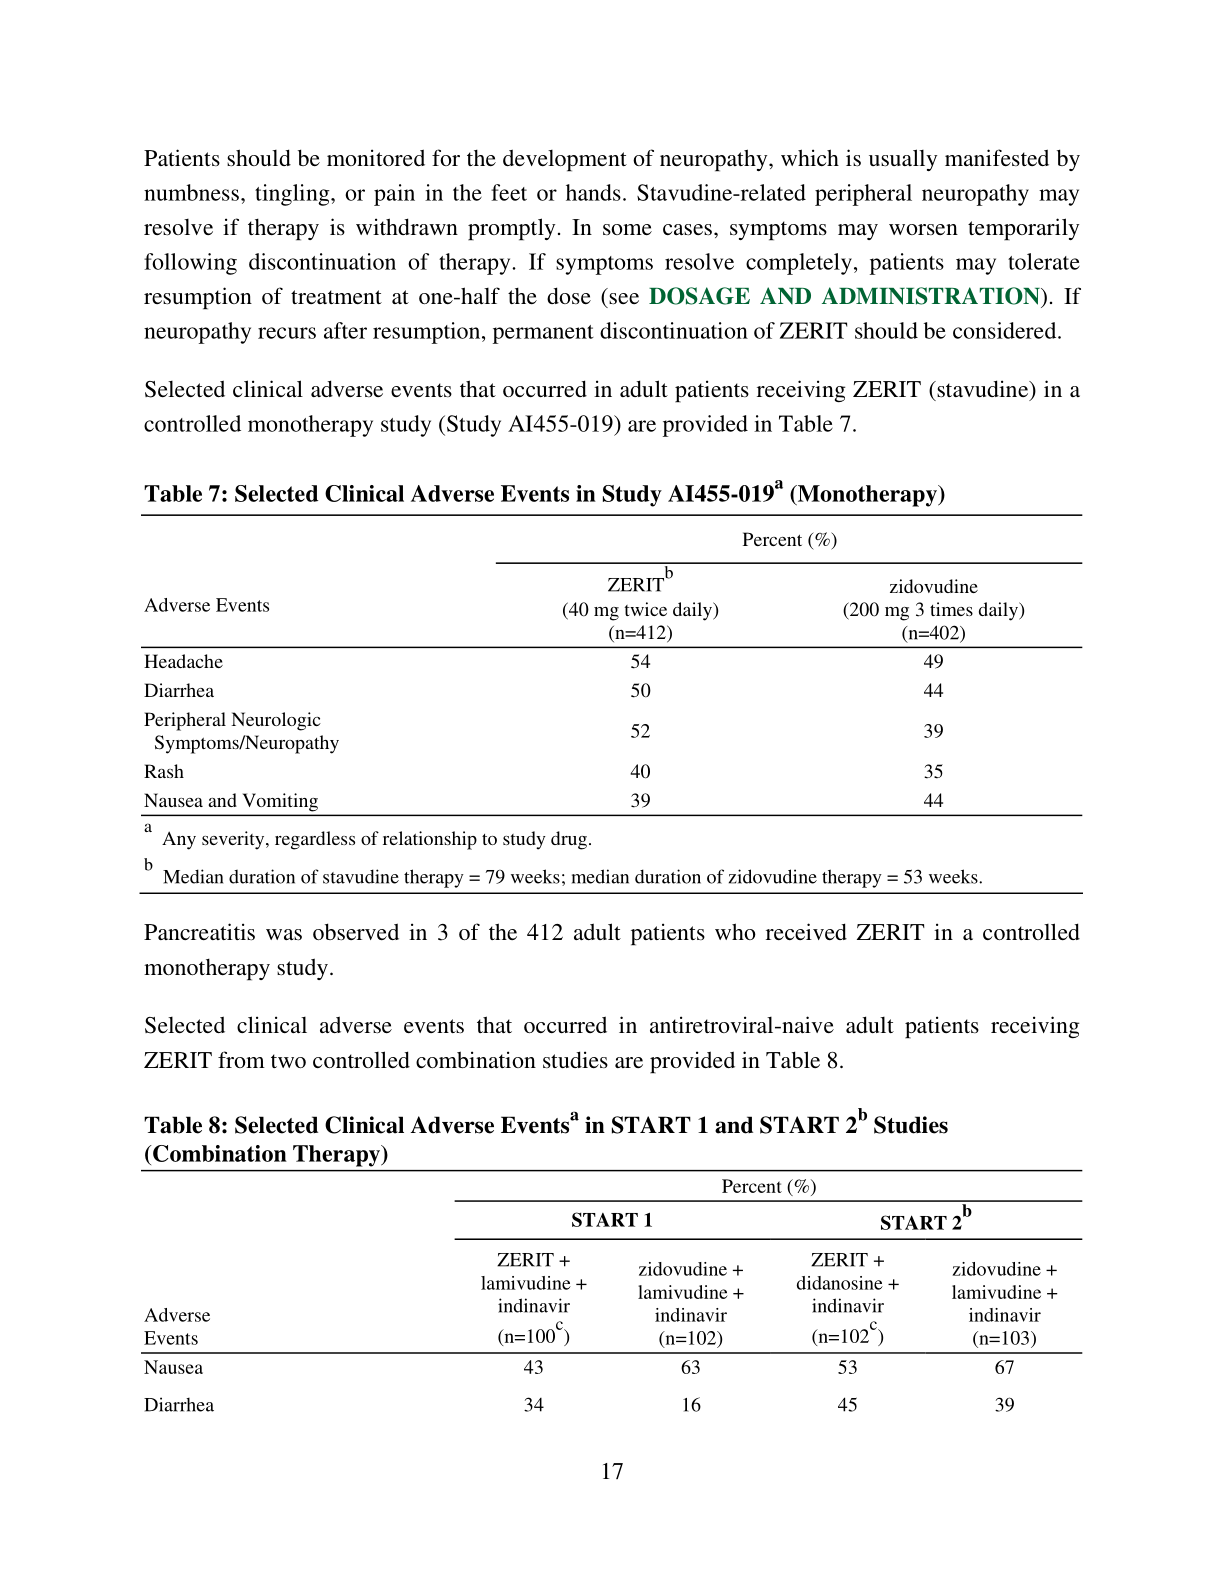partial_lined_merged_cells: (140, 513, 1083, 819), (140, 1167, 1084, 1417)
